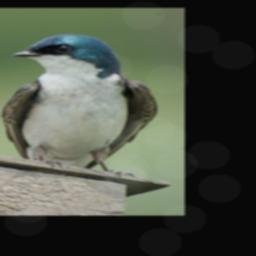Swallow: (0, 33, 158, 180)
